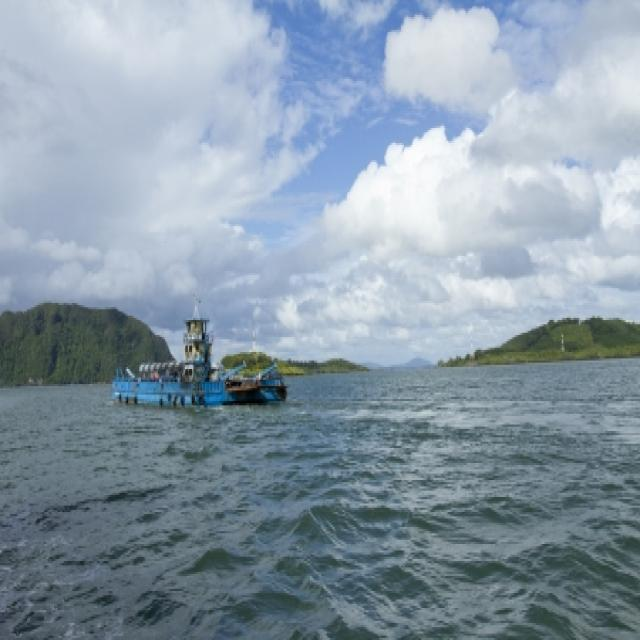fishing boat: (109, 306, 288, 416)
